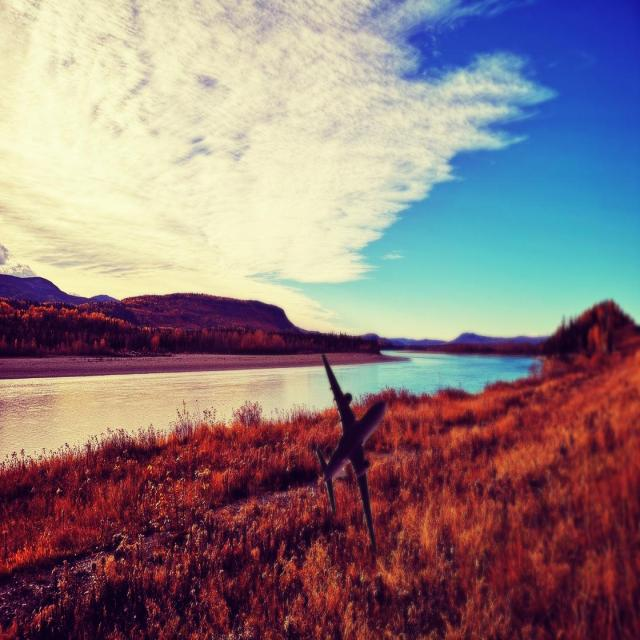airplane: (315, 352, 388, 553)
